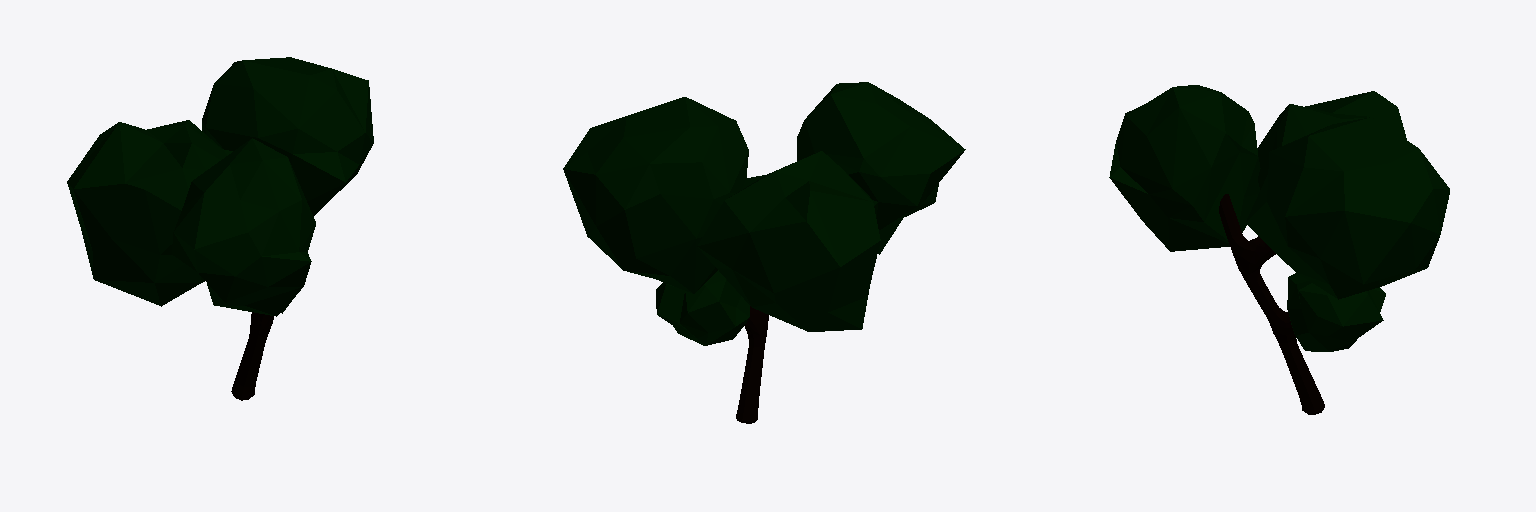
3 renders of one model, left to right at view 1: azimuth 30°, elevation 25°; view 2: azimuth 150°, elevation 25°; view 3: azimuth 270°, elevation 25°, orthographic.
Visible parts, largest first — view 1: Икосфера.003; view 2: Икосфера.003; view 3: Икосфера.003.
Boxes of the visible parts, x1,y1,x2,y2 form: Икосфера.003: [67, 57, 373, 400]; Икосфера.003: [563, 82, 965, 423]; Икосфера.003: [1109, 85, 1449, 414].
Bounding box in the file's own units: 4.7 × 4.69 × 4.7.